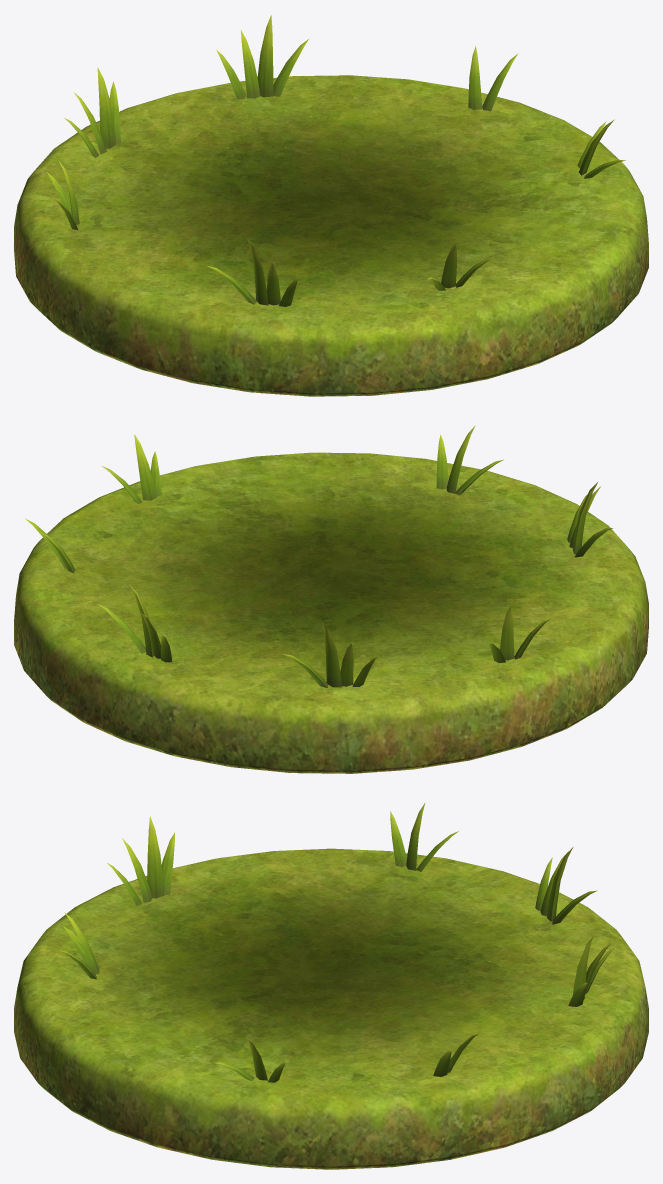
File: GrassBase.fbx
The picture shows the model from 3 angles, top to bottom: view 1: azimuth 30°, elevation 25°; view 2: azimuth 150°, elevation 25°; view 3: azimuth 270°, elevation 25°; orthographic projection.
Visible parts, largest first — view 1: ground_grass_mdl; view 2: ground_grass_mdl; view 3: ground_grass_mdl.
Part boxes in pixels (x1=…): ground_grass_mdl: x1=14, y1=15, x2=648, y2=396; ground_grass_mdl: x1=14, y1=426, x2=648, y2=773; ground_grass_mdl: x1=14, y1=803, x2=648, y2=1169.
Size of the model in its own units: 0.4896 by 0.1162 by 0.4896.
